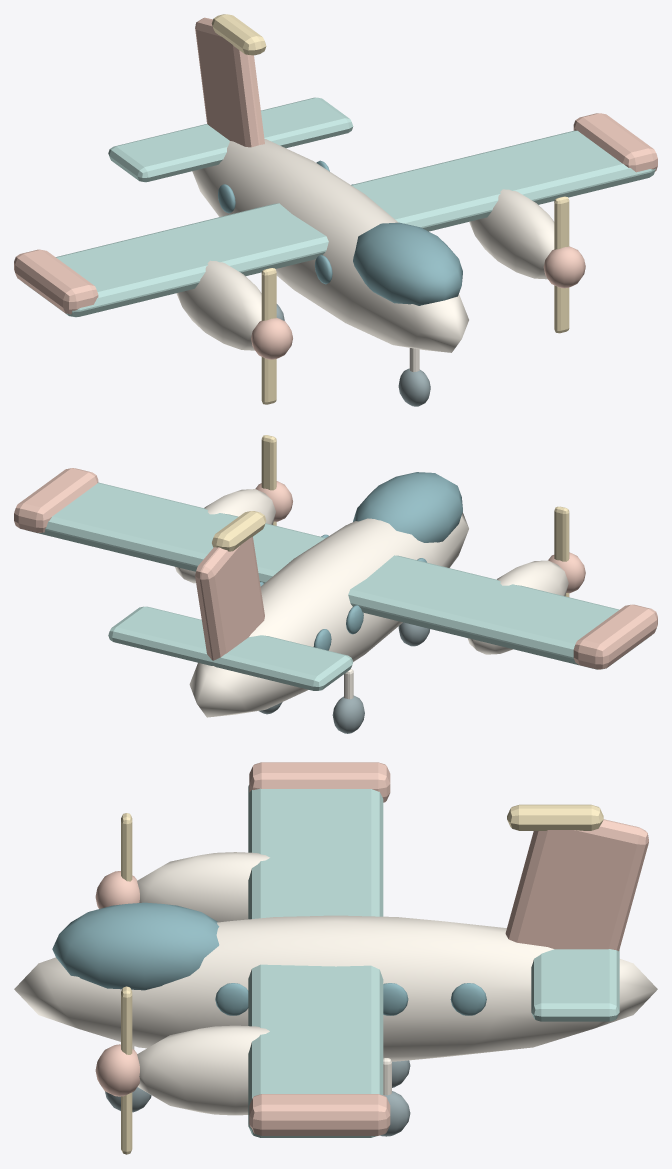
The model's file is rishiri-airplane.glb.
3 views of the same model, one above another, from view 1: azimuth 30°, elevation 25°; view 2: azimuth 150°, elevation 25°; view 3: azimuth 270°, elevation 25° (orthographic). The views are drawn at different scales.
Visible parts, largest first — view 1: AirplaneBody_Mint, AirplaneBody_Cream, AirplaneBody_Coral, AirplaneBody_Glass, PropellerLeft_Butter, PropellerRight_Butter, PropellerRight_Coral, PropellerLeft_Coral, AirplaneBody_Butter, LandingGear_Rubber; view 2: AirplaneBody_Mint, AirplaneBody_Cream, AirplaneBody_Coral, AirplaneBody_Glass, LandingGear_Rubber, AirplaneBody_Butter, PropellerRight_Butter, PropellerLeft_Butter, PropellerLeft_Coral, PropellerRight_Coral; view 3: AirplaneBody_Cream, AirplaneBody_Mint, AirplaneBody_Coral, AirplaneBody_Glass, AirplaneBody_Butter, PropellerRight_Coral, LandingGear_Rubber, PropellerRight_Butter, PropellerLeft_Coral, PropellerLeft_Butter.
Boxes of the visible parts, x1,y1,x2,y2 form: AirplaneBody_Mint: (24,97,655,317); AirplaneBody_Cream: (176,139,554,352); AirplaneBody_Coral: (14,17,657,314); AirplaneBody_Glass: (218,160,462,305); PropellerLeft_Butter: (261,268,276,404); PropellerRight_Butter: (554,196,569,333); PropellerRight_Coral: (543,246,585,288); PropellerLeft_Coral: (251,318,292,359); AirplaneBody_Butter: (211,14,266,55); LandingGear_Rubber: (276,304,430,406); AirplaneBody_Mint: (28,482,651,690); AirplaneBody_Cream: (175,489,568,717); AirplaneBody_Coral: (14,468,657,669); AirplaneBody_Glass: (260,472,462,650); LandingGear_Rubber: (259,622,430,733); AirplaneBody_Butter: (212,511,266,551); PropellerRight_Butter: (261,435,276,525); PropellerLeft_Butter: (554,506,569,596); PropellerLeft_Coral: (548,552,585,593); PropellerRight_Coral: (255,481,292,521); AirplaneBody_Cream: (14,852,657,1115); AirplaneBody_Mint: (248,785,619,1137); AirplaneBody_Coral: (249,762,648,1135); AirplaneBody_Glass: (52,902,486,1015); AirplaneBody_Butter: (507,804,603,830); PropellerRight_Coral: (95,1044,139,1096); LandingGear_Rubber: (105,1060,410,1136); PropellerRight_Butter: (121,986,132,1154); PropellerLeft_Coral: (95,871,139,908); PropellerLeft_Butter: (121,813,132,881).
Bounding box in the file's own units: 4.14 × 1.67 × 3.2.
